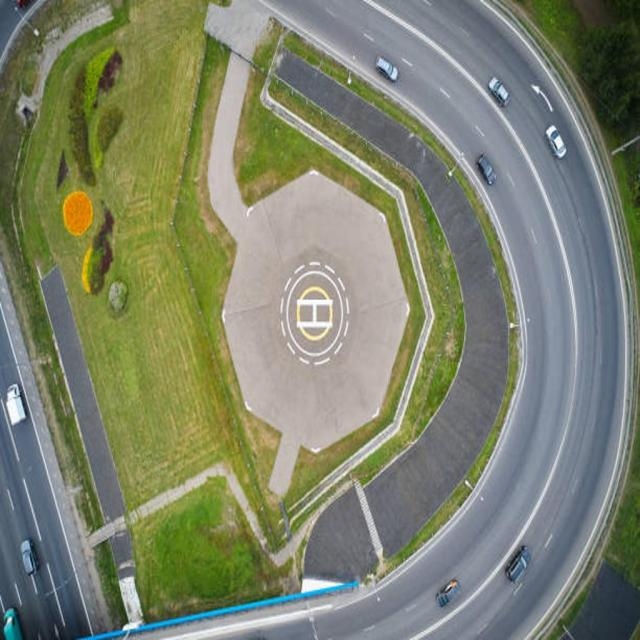helipad: (285, 270, 343, 355)
